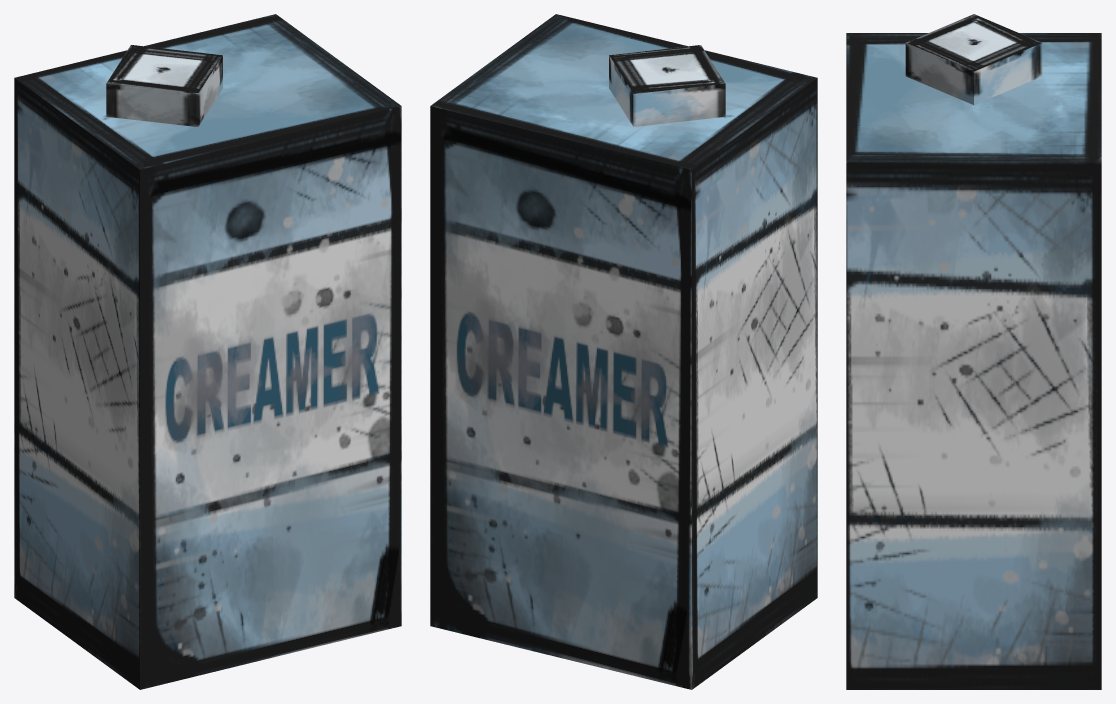
Rendered from creamer.glb.
The picture shows the model from 3 angles, left to right: view 1: azimuth 30°, elevation 25°; view 2: azimuth 150°, elevation 25°; view 3: azimuth 270°, elevation 25°; orthographic projection.
Visible parts, largest first — view 1: Milk Var 2; view 2: Milk Var 2; view 3: Milk Var 2.
Part boxes in pixels (x1,y1,x2,y2): Milk Var 2: (14,14,401,689); Milk Var 2: (430,14,817,689); Milk Var 2: (846,14,1101,689).
Bounding box in the file's own units: 0.1444 × 0.2917 × 0.1203.
Materials: 1 (1 with a texture image).
